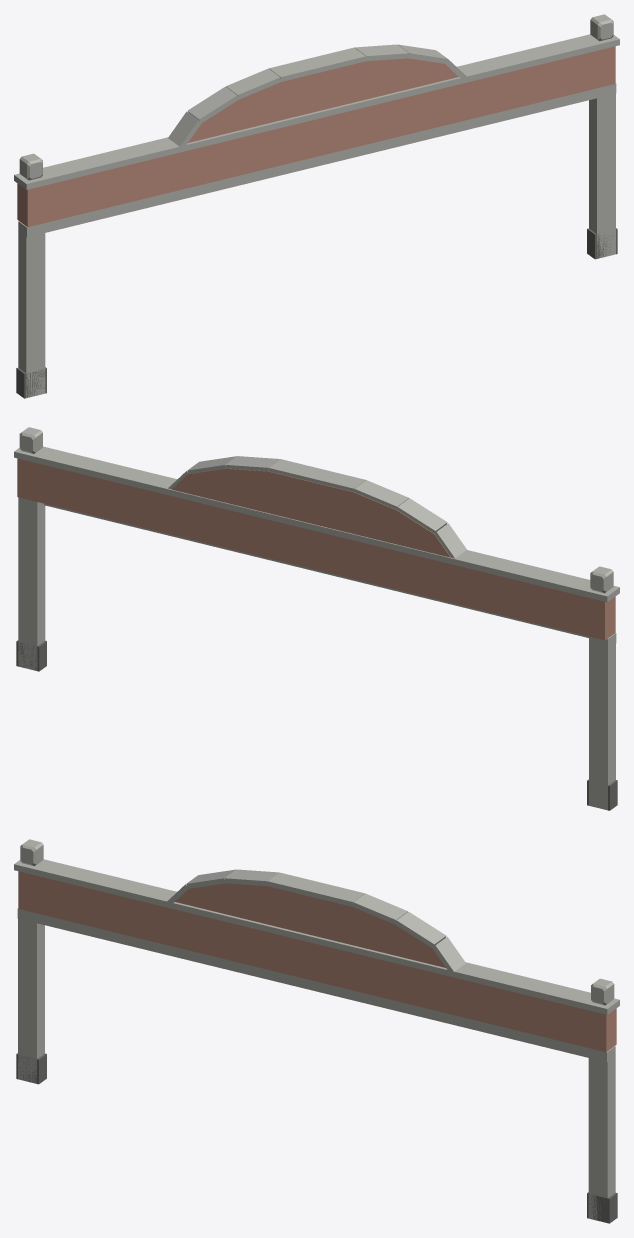
File: SM_Bld_Shop_Front_04.glb
3 renders of one model, top to bottom at view 1: azimuth 30°, elevation 25°; view 2: azimuth 150°, elevation 25°; view 3: azimuth 330°, elevation 25°, orthographic.
Parts seen in each view (by area): view 1: SM_Bld_Shop_Front_04; view 2: SM_Bld_Shop_Front_04; view 3: SM_Bld_Shop_Front_04.
Part boxes in pixels (x1,y1,x2,y2): SM_Bld_Shop_Front_04: (14, 14, 619, 398); SM_Bld_Shop_Front_04: (14, 427, 619, 810); SM_Bld_Shop_Front_04: (14, 839, 619, 1223).
Bounding box in the file's own units: 12.52 × 5.27 × 0.47.
Materials: 1 (1 with a texture image).
